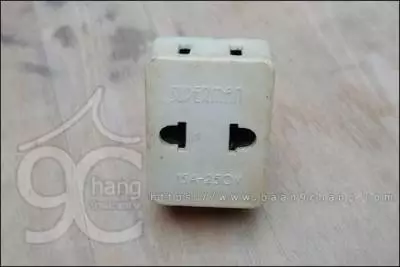Three_eye_plug: (132, 27, 290, 217)
